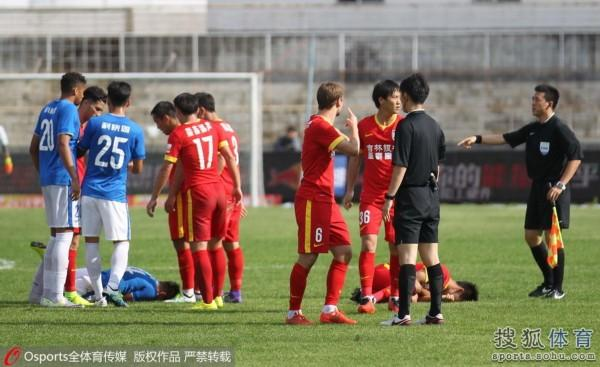down: (24, 231, 186, 312), (349, 258, 487, 310)
up: (457, 81, 596, 319), (282, 77, 364, 330), (146, 91, 236, 307), (385, 70, 451, 330), (77, 82, 147, 303), (346, 75, 405, 320), (27, 68, 82, 310), (197, 90, 250, 305)
